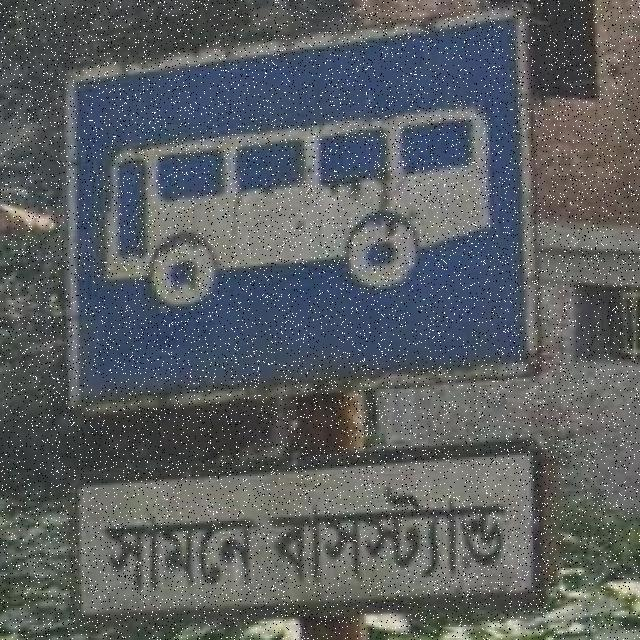Ahead-the-bus-station: (48, 41, 601, 639)
